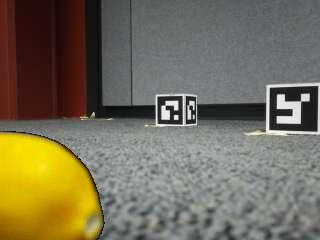lemon: (0, 132, 101, 240)
